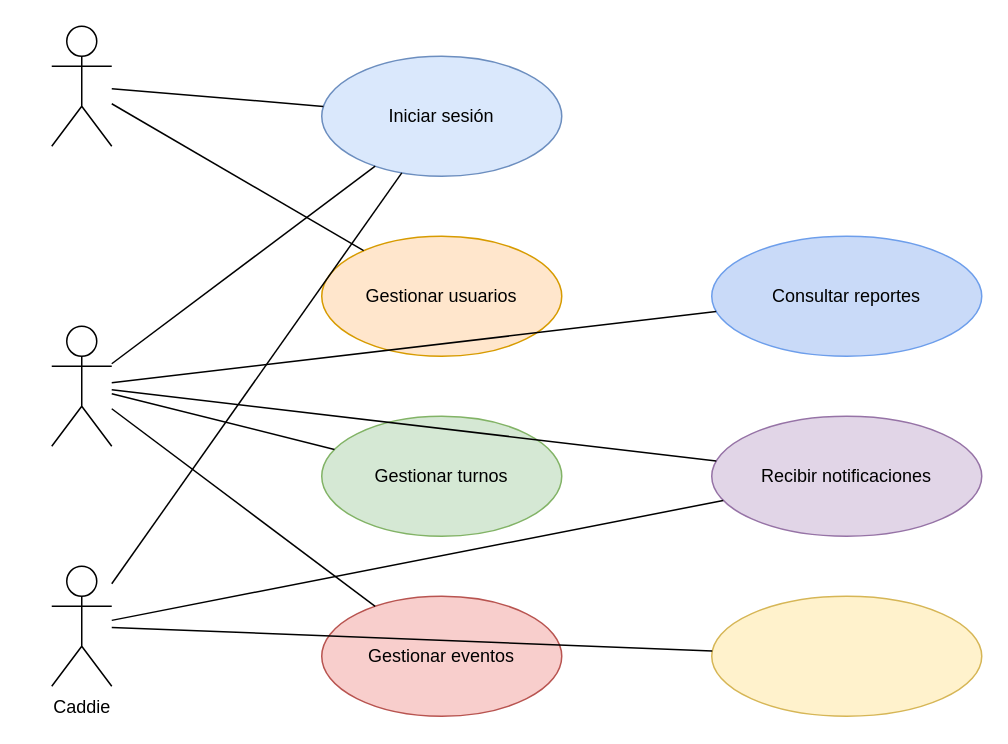
Image size: 1008x744. Some labels were removed from this diagram. Each missing label, with the box of its shape:
Administrador: (50, 25, 112, 146)
Coordinador: (50, 325, 112, 446)
Solicitar cambio: (710, 595, 982, 716)
